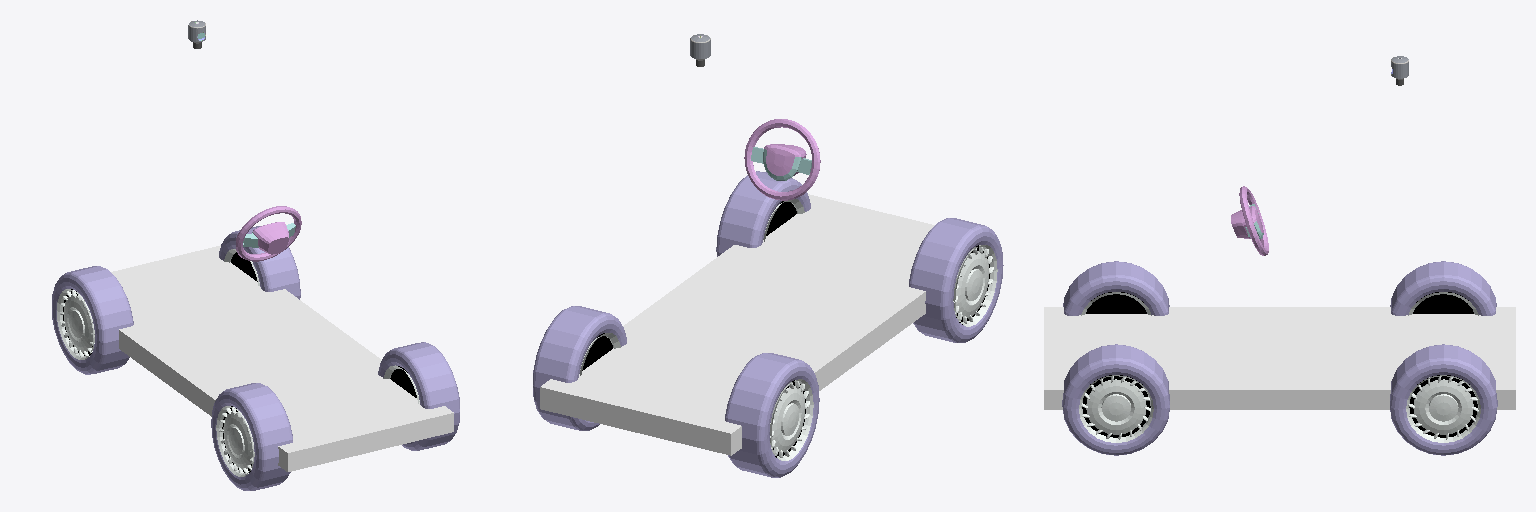
URDF robot description (toyotaComs):
<?xml version="1.0"?>
<robot name="toyotaComs">
  <link name="base_link">
    <visual>
      <geometry>
        <box size="0.9200 2.2025 0.1015"/>
      </geometry>
      <origin rpy="0 0 0 " xyz="0 0 0.225"/>
      <material name="white">
         <color rgba="1 1 1 1"/>
      </material>
    </visual>
    <collision>
      <geometry>
         <box size="0.9200 2.2025 0.1015"/>
      </geometry>
      <origin rpy="0 0 0 " xyz="0 0 0.225"/>
    </collision>
    <inertial>
      <mass value="10"/>
      <inertia ixx="0.012" ixy="0.0" ixz="0.0" iyy="0.012" iyz="0.0" izz="0.008"/>
    </inertial>
  </link>


<link name="left_back_wheel_base">
    <visual>
      <geometry>
        <cylinder length="0.15" radius="0.24" />
      </geometry>
      <material name="black">
       <color rgba="0 0 0 1"/>
      </material>
    </visual>
     <collision>
      <geometry>
        <cylinder length="0.15" radius="0.24" />
      </geometry>
    </collision>
    <inertial>
      <mass value="1"/>
      <inertia ixx="0.00498" ixy="0.0" ixz="0.0" iyy="0.00498" iyz="0.0" izz="0.00845"/>
     </inertial>
  </link>

 <joint name="nakedCar_freeAxisLeft" type="continuous">
    <axis xyz="0 0 1"/>
    <parent link="base_link"/>
    <child link="left_back_wheel_base"/>
    <origin rpy="1.57075 0 1.57075 " xyz="0.46 0.765 0.225"/>
    <limit effort="100" velocity="100"/>
    <joint_properties damping="0.0" friction="0.0"/>
  </joint>


<link name="left_back_wheel">
    <visual>
	<origin rpy="0 -1.571 0" xyz="0 0 0"/>
      <geometry>
        <mesh filename="package://vehicle_model/mesh/LeftWheel.dae"/>
      </geometry>
    </visual>
     <collision>
      <geometry>
        <mesh filename="package://vehicle_model/mesh/LeftWheel.dae"/>
      </geometry>
	 <origin rpy="0 -1.571 0" xyz="0 0 0"/>
    </collision>
    <inertial>
      <mass value="1"/>
      <inertia ixx="0.00498" ixy="0.0" ixz="0.0" iyy="0.00498" iyz="0.0" izz="0.00845"/>
     </inertial>
  </link>

 <joint name="left_back_wheel_joint" type="fixed">
    <axis xyz="0 0 1"/>
    <parent link="left_back_wheel_base"/>
    <child link="left_back_wheel"/>
    <origin rpy="0 0 0 " xyz="0 0 0"/>
    <limit effort="100" velocity="100"/>
    <joint_properties damping="0.0" friction="0.0"/>
  </joint>


<link name="right_back_wheel_base">
    <visual>
      <geometry>
        <cylinder length="0.15" radius="0.24" />
      </geometry>
      <material name="black">
       <color rgba="0 0 0 1"/>
      </material>
    </visual>
     <collision>
      <geometry>
        <cylinder length="0.15" radius="0.24" />
      </geometry>
    </collision>
    <inertial>
      <mass value="1"/>
      <inertia ixx="0.00498" ixy="0.0" ixz="0.0" iyy="0.00498" iyz="0.0" izz="0.00845"/>
     </inertial>
  </link>

 <joint name="nakedCar_freeAxisRight" type="continuous">
    <axis xyz="0 0 1"/>
    <parent link="base_link"/>
    <child link="right_back_wheel_base"/>
    <origin rpy="1.57075 0 1.57075 " xyz="-0.46 0.765 0.225"/>
    <limit effort="100" velocity="100"/>
    <joint_properties damping="0.0" friction="0.0"/>
  </joint>

<link name="right_back_wheel">
    <visual>
	<origin rpy="0 -1.571 0" xyz="0 0 0"/>
      <geometry>
        <mesh filename="package://vehicle_model/mesh/RightWheel.dae"/>
      </geometry>
    </visual>
     <collision>
      <geometry>
        <mesh filename="package://vehicle_model/mesh/RightWheel.dae"/>
      </geometry>
	 <origin rpy="0 -1.571 0" xyz="0 0 0"/>
    </collision>
    <inertial>
      <mass value="1"/>
      <inertia ixx="0.00498" ixy="0.0" ixz="0.0" iyy="0.00498" iyz="0.0" izz="0.00845"/>
     </inertial>
  </link>

 <joint name="right_back_wheel_joint" type="fixed">
    <axis xyz="0 0 1"/>
    <parent link="right_back_wheel_base"/>
    <child link="right_back_wheel"/>
    <origin rpy="0 0 0 " xyz="0 0 0"/>
    <limit effort="100" velocity="100"/>
    <joint_properties damping="0.0" friction="0.0"/>
  </joint>


<link name="left_front_wheel_base">
    <visual>
      <geometry>
        <cylinder length="0.15" radius="0.24" />
      </geometry>
      <material name="black">
       <color rgba="0 0 0 1"/>
      </material>
    </visual>
     <collision>
      <geometry>
        <cylinder length="0.15" radius="0.24" />
      </geometry>
    </collision>
    <inertial>
      <mass value="1"/>
      <inertia ixx="0.00498" ixy="0.0" ixz="0.0" iyy="0.00498" iyz="0.0" izz="0.00845"/>
     </inertial>
  </link>

 <joint name="nakedCar_steeringLeft" type="revolute">
    <axis xyz="0 1 0"/>
    <parent link="base_link"/>
    <child link="left_front_wheel_base"/>
    <origin rpy="1.57075 0 1.57075 " xyz="0.46 -0.765 0.225"/>
    <limit effort="1000.0" lower="-0.785" upper="0.785" velocity="0.5"/>
    <joint_properties damping="0.0" friction="0.0"/>
  </joint>

<link name="left_front_wheel">
    <visual>
	<origin rpy="0 -1.571 0" xyz="0 0 0"/>
      <geometry>
        <mesh filename="package://vehicle_model/mesh/LeftWheel.dae"/>
      </geometry>
    </visual>
     <collision>
      <geometry>
        <mesh filename="package://vehicle_model/mesh/LeftWheel.dae"/>
      </geometry>
	 <origin rpy="0 -1.571 0" xyz="0 0 0"/>
    </collision>
    <inertial>
      <mass value="1"/>
      <inertia ixx="0.00498" ixy="0.0" ixz="0.0" iyy="0.00498" iyz="0.0" izz="0.00845"/>
     </inertial>
  </link>


 <joint name="nakedCar_motorLeft" type="continuous">
    <axis xyz="0 0 1"/>
    <parent link="left_front_wheel_base"/>
    <child link="left_front_wheel"/>
    <origin rpy="0 0 0 " xyz="0.0 0.0 0.0"/>
    <limit effort="100" velocity="100"/>
    <joint_properties damping="0.0" friction="0.0"/>
  </joint>

<link name="right_front_wheel_base">
    <visual>
      <geometry>
        <cylinder length="0.15" radius="0.24" />
      </geometry>
      <material name="black">
       <color rgba="0 0 0 1"/>
      </material>
    </visual>
     <collision>
      <geometry>
        <cylinder length="0.15" radius="0.24" />
      </geometry>
    </collision>
    <inertial>
      <mass value="1"/>
      <inertia ixx="0.00498" ixy="0.0" ixz="0.0" iyy="0.00498" iyz="0.0" izz="0.00845"/>
     </inertial>
  </link>

 <joint name="nakedCar_steeringRight" type="revolute">
    <axis xyz="0 1 0"/>
    <parent link="base_link"/>
    <child link="right_front_wheel_base"/>
    <origin rpy="1.57075 0 1.57075 " xyz="-0.46 -0.765 0.225"/>
    <limit effort="1000.0" lower="-0.785" upper="0.785" velocity="0.5"/>
    <joint_properties damping="0.0" friction="0.0"/>
  </joint>

<link name="right_front_wheel">
    <visual>
	<origin rpy="0 -1.571 0" xyz="0 0 0"/>
      <geometry>
        <mesh filename="package://vehicle_model/mesh/RightWheel.dae"/>
      </geometry>
    </visual>
     <collision>
      <geometry>
        <mesh filename="package://vehicle_model/mesh/RightWheel.dae"/>
      </geometry>
	 <origin rpy="0 -1.571 0" xyz="0 0 0"/>
    </collision>
    <inertial>
      <mass value="1"/>
      <inertia ixx="0.00498" ixy="0.0" ixz="0.0" iyy="0.00498" iyz="0.0" izz="0.00845"/>
     </inertial>
  </link>

 <joint name="nakedCar_motorRight" type="continuous">
    <axis xyz="0 0 1"/>
    <parent link="right_front_wheel_base"/>
    <child link="right_front_wheel"/>
    <origin rpy="0 0 0 " xyz="0 0 0"/>
    <limit effort="100" velocity="100"/>
    <joint_properties damping="0.0" friction="0.0"/>
  </joint>




<link name="car_body">
    <visual>
      <origin rpy="0 0 0" xyz="0 0 0"/>
      <geometry>
        <mesh filename="package://vehicle_model/mesh/carbody.dae"/>
      </geometry>
    </visual>
    <collision>
      <geometry>
        <mesh filename="package://vehicle_model/mesh/carbody.dae"/>
      </geometry>
     <origin rpy="0 0 0" xyz="0 0 0"/>
    </collision>
    <inertial>
      <mass value="0.05"/>
     <inertia ixx="0.012" ixy="0.0" ixz="0.0" iyy="0.012" iyz="0.0" izz="0.008"/>
    </inertial>
  </link>

<joint name="car_body_joint" type="fixed">
    <axis xyz="0 0 0"/>
    
    <origin rpy="0 0 0" xyz="0 0 0"/>
    <parent link="base_link"/>
    <child link="car_body"/>
  </joint>


<link name="steering_wheel_base">
    <visual>
      <geometry>
         <cylinder length="0.07" radius="0.04" />
      </geometry>
   <material name="grey">
       <color rgba="0.4 0.4 0.4 1"/>
  </material>
    </visual>
    <collision>
      <geometry>
      <cylinder length="0.7" radius="0.04" />
      </geometry>
    </collision>
    <inertial>
      <mass value="0.05"/>
     <inertia ixx="0.012" ixy="0.0" ixz="0.0" iyy="0.012" iyz="0.0" izz="0.008"/>
    </inertial>
  </link>

<joint name="nakedCar_steeringWheel" type="continuous">
    <axis xyz="0 0 1"/>
    
    <origin rpy=" -1.207 0 0" xyz="0 -0.1536 0.9208"/>
    <parent link="base_link"/>
    <child link="steering_wheel_base"/>
  </joint>

<link name="steering_wheel">
    <visual>
      <origin rpy="0 0 0" xyz="0 0 0"/>
      <geometry>
        <mesh filename="package://vehicle_model/mesh/steeringWheel.dae"/>
      </geometry>
    </visual>
    <collision>
      <geometry>
        <mesh filename="package://vehicle_model/mesh/steeringWheel.dae"/>
      </geometry>
     <origin rpy="0 0 0" xyz="0 0 0"/>
    </collision>
    <inertial>
      <mass value="0.05"/>
     <inertia ixx="0.012" ixy="0.0" ixz="0.0" iyy="0.012" iyz="0.0" izz="0.008"/>
    </inertial>
  </link>

<joint name="steering_wheel_joint" type="fixed">
    <axis xyz="0 0 1"/> 
    <origin rpy="1.207 0 0" xyz="0 0 0"/>
    <parent link="steering_wheel_base"/>
    <child link="steering_wheel"/>

  </joint>


<link name="velodyne_base">
    <visual>
      <geometry>
         <cylinder length="0.03" radius="0.02" />
      </geometry>
   <material name="grey">
       <color rgba="0.4 0.4 0.4 1"/>
  </material>
    </visual>
    <collision>
      <geometry>
      <cylinder length="0.03" radius="0.02" />
      </geometry>
    </collision>
    <inertial>
      <mass value="0.05"/>
     <inertia ixx="0.012" ixy="0.0" ixz="0.0" iyy="0.012" iyz="0.0" izz="0.008"/>
    </inertial>
  </link>

<joint name="velodyne_base_joint" type="fixed">
    <axis xyz="0 0 0"/>
    
    <origin rpy="0 0 0" xyz="0 0.5619 1.657"/>
    <parent link="base_link"/>
    <child link="velodyne_base"/>
  </joint>

<link name="velodyne32">
    <visual>
      <origin rpy="0 0 0" xyz="0 0 0"/>
      <geometry>
        <mesh filename="package://vehicle_model/mesh/velodyne_32.dae"/>
      </geometry>
    </visual>
    <collision>
      <geometry>
        <mesh filename="package://vehicle_model/mesh/velodyne_32.dae"/>
      </geometry>
     <origin rpy="0 0 0" xyz="0 0 0"/>
    </collision>
    <inertial>
      <mass value="0.05"/>
     <inertia ixx="0.012" ixy="0.0" ixz="0.0" iyy="0.012" iyz="0.0" izz="0.008"/>
    </inertial>
  </link>

<joint name="velodyne_32E_rotJoint" type="continuous">
    <axis xyz="0 0 1"/> 
    <origin rpy="0 0 0" xyz="0 0 0"/>
    <parent link="velodyne_base"/>
    <child link="velodyne32"/>
</joint>


</robot>

--- Render facts (derived) ---
3 views of the same robot in one strip: view 1: azimuth 30°, elevation 25°; view 2: azimuth 150°, elevation 25°; view 3: azimuth 270°, elevation 25° (orthographic).
Robot: toyotaComs — 14 links, 13 joints (2 revolute, 6 continuous, 5 fixed); root link base_link; default pose: every joint at zero.
Links seen in each view (by area): view 1: base_link, right_back_wheel, right_front_wheel, left_front_wheel, steering_wheel, left_back_wheel; view 2: base_link, right_front_wheel, right_back_wheel, left_back_wheel, left_front_wheel, steering_wheel; view 3: base_link, left_front_wheel, left_back_wheel, right_back_wheel, right_front_wheel, steering_wheel, right_front_wheel_base, right_back_wheel_base.
Boxes of the visible links, <box> form: base_link: <box>111,245,453,471</box>; right_back_wheel: <box>52,266,133,374</box>; right_front_wheel: <box>211,383,292,490</box>; left_front_wheel: <box>378,342,459,450</box>; steering_wheel: <box>236,206,301,261</box>; left_back_wheel: <box>219,226,300,299</box>; base_link: <box>540,194,934,455</box>; right_front_wheel: <box>909,218,1003,342</box>; right_back_wheel: <box>725,353,819,477</box>; left_back_wheel: <box>533,306,626,430</box>; left_front_wheel: <box>716,171,810,256</box>; steering_wheel: <box>744,119,820,200</box>; base_link: <box>1044,307,1515,409</box>; left_front_wheel: <box>1062,344,1169,455</box>; left_back_wheel: <box>1390,344,1497,455</box>; right_back_wheel: <box>1390,261,1496,315</box>; right_front_wheel: <box>1063,261,1169,315</box>; steering_wheel: <box>1231,186,1268,255</box>; right_front_wheel_base: <box>1086,292,1146,313</box>; right_back_wheel_base: <box>1413,292,1473,313</box>.
Size in the robot's own frame: 1.12 by 2.2 by 1.8 metres.
6 mesh visuals loaded from 5 distinct referenced files (4 Collada DAE); not drawn: 1 (reference not matched to a file when rendering).